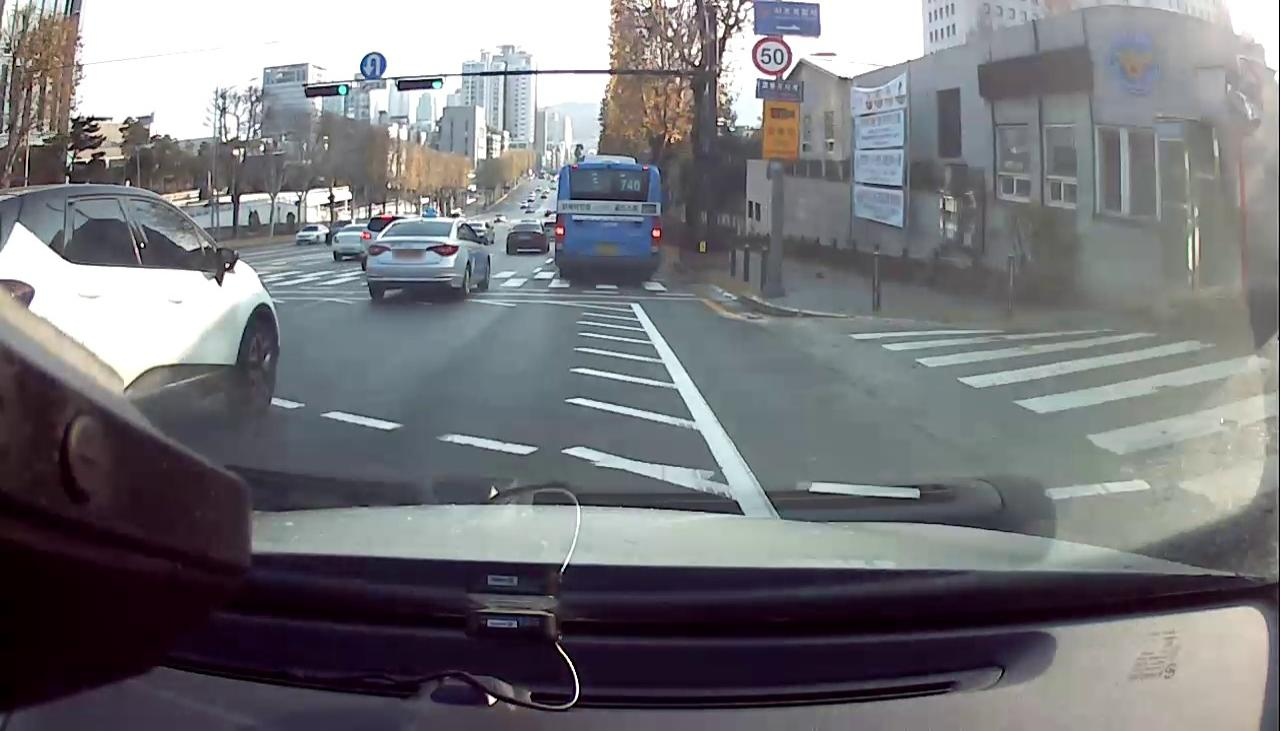Green Light: (429, 78, 444, 90), (338, 83, 349, 96)
